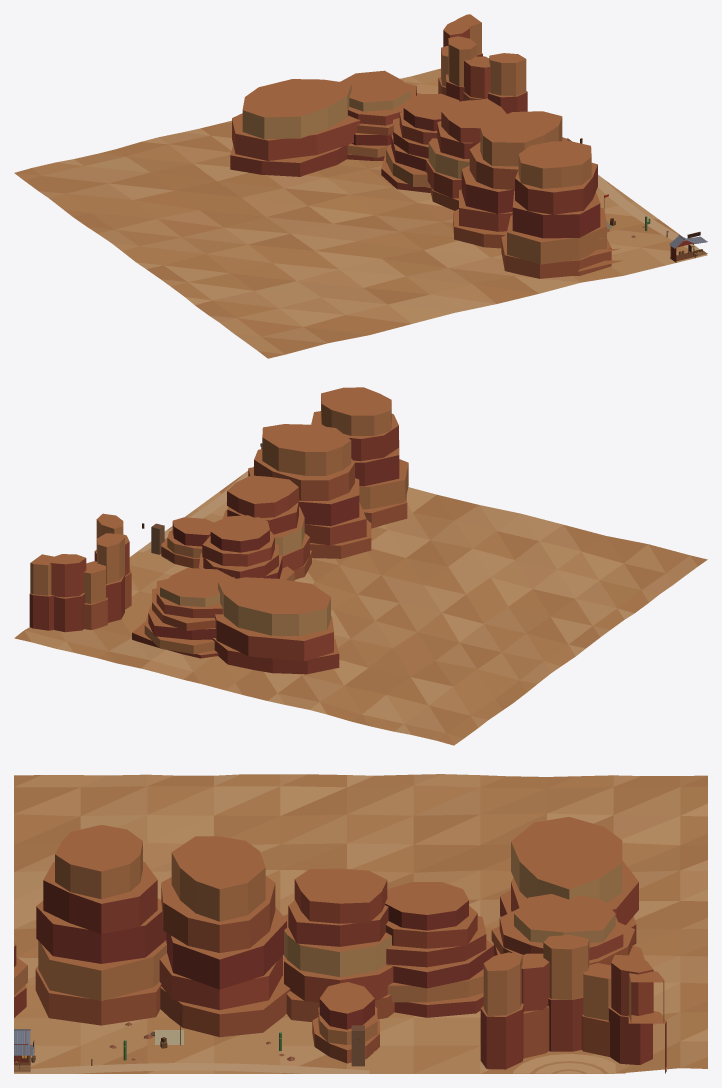
3 views of the same model, one above another, from view 1: azimuth 30°, elevation 25°; view 2: azimuth 150°, elevation 25°; view 3: azimuth 270°, elevation 25° (orthographic). The views are drawn at different scales.
Visible parts, largest first — view 1: baked; view 2: baked; view 3: baked.
Part boxes in pixels (left/top/right/bottom): baked: left=14, top=14, right=707, bottom=358; baked: left=14, top=387, right=707, bottom=745; baked: left=14, top=774, right=707, bottom=1073.
Size of the model in its own units: 125 by 28.97 by 125.
